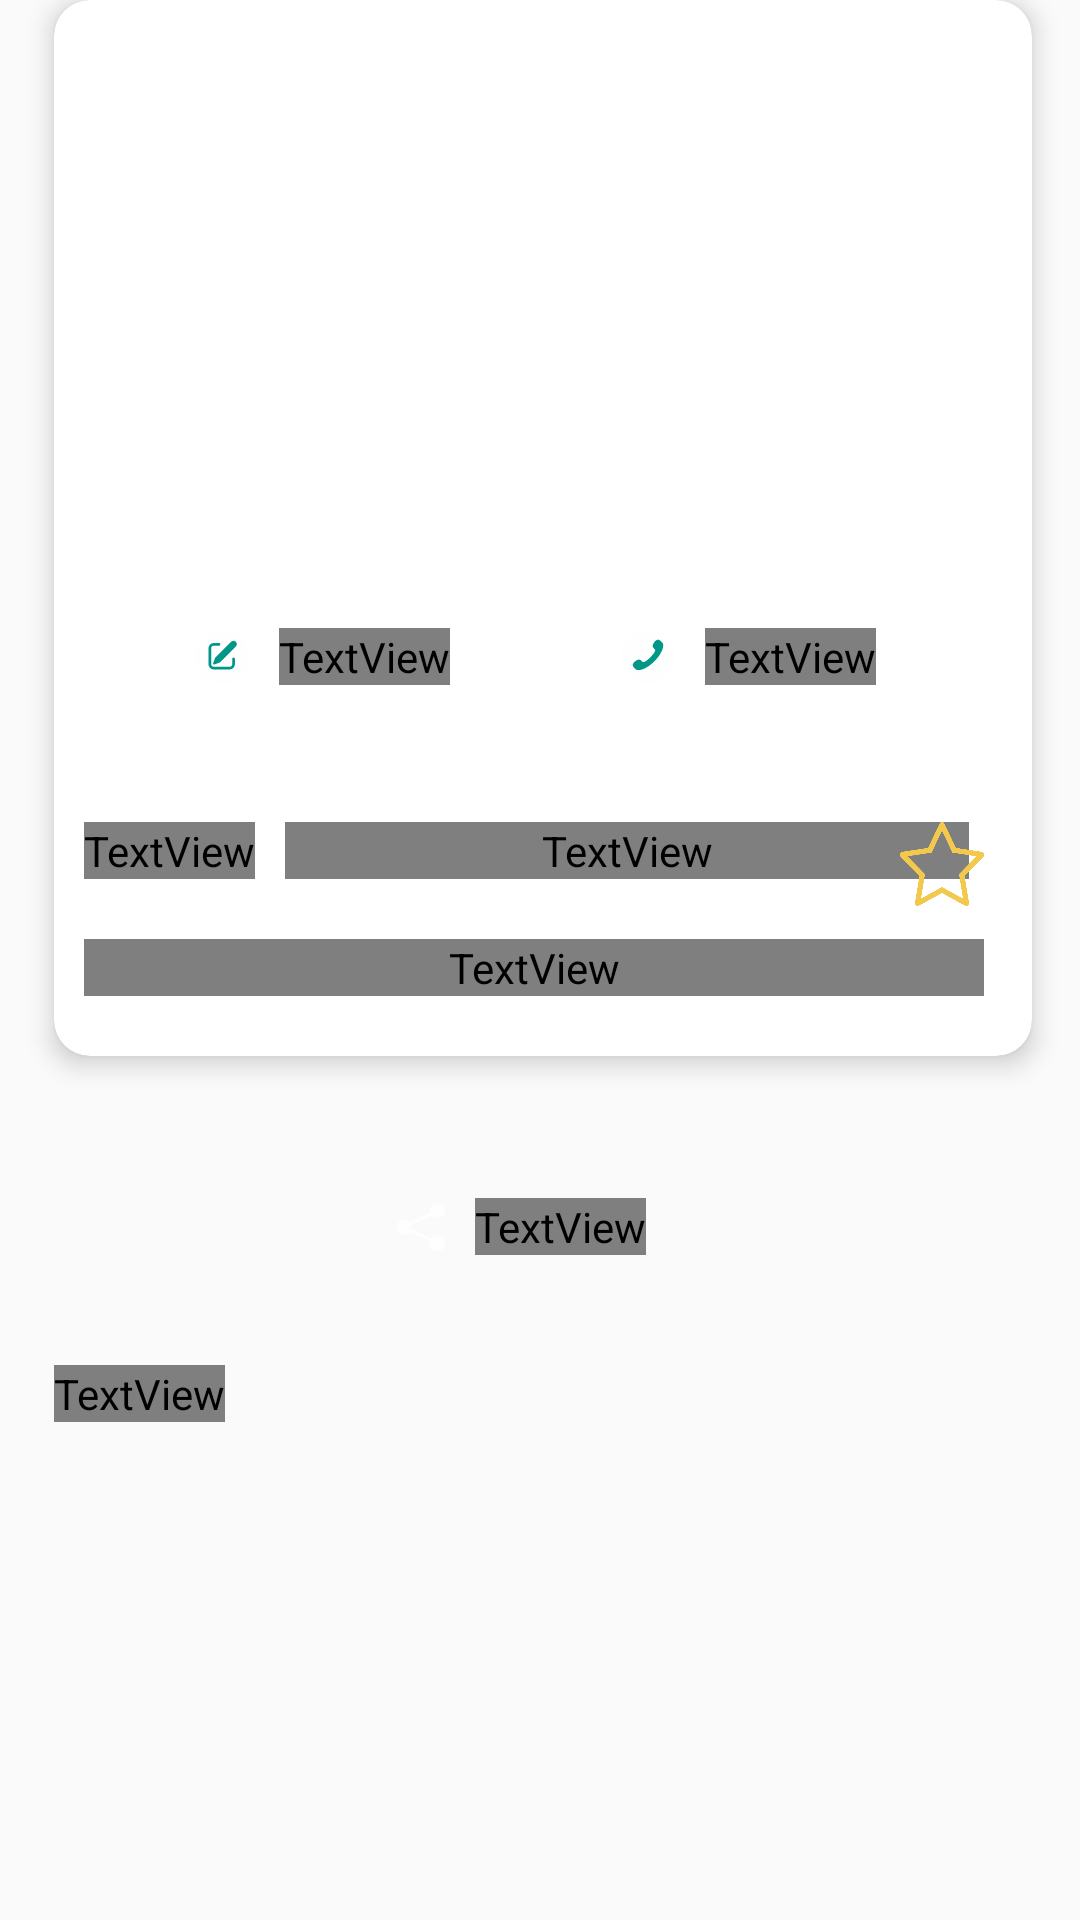

Icons on this 1080 × 1920 Android screen, each with its box as (x1, y1, x2, y2):
call: (632, 639, 664, 671)
chosen disable: (900, 822, 984, 906)
write: (208, 640, 237, 670)
